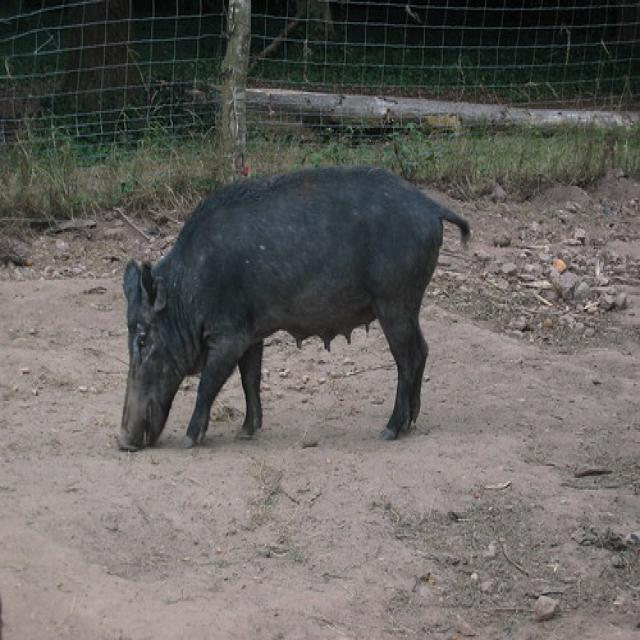boar: (103, 160, 489, 470)
